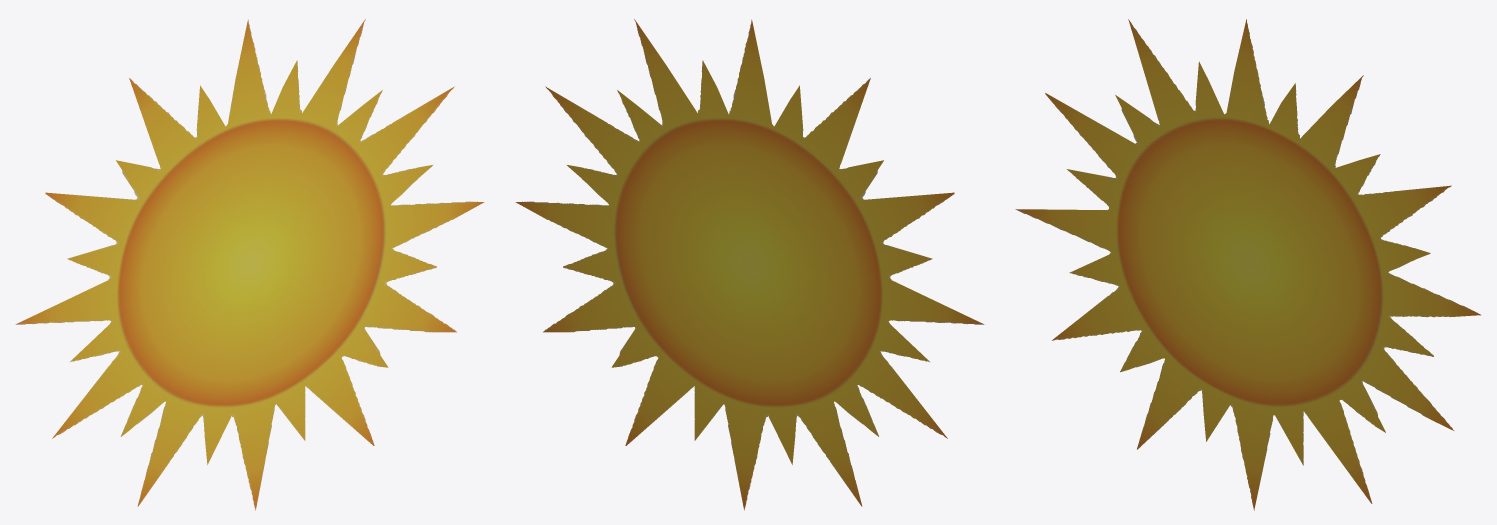
File: sun.fbx
3 views of the same model, side by side, from view 1: azimuth 30°, elevation 25°; view 2: azimuth 150°, elevation 25°; view 3: azimuth 330°, elevation 25° (orthographic).
Parts seen in each view (by area): view 1: model; view 2: model; view 3: model.
Part boxes in pixels (x1,y1,x2,y2): model: (15,19,484,510); model: (515,19,984,510); model: (1015,19,1481,510).
Size of the model in its own units: 7.93 by 8.02 by 0.001.
Materials: 1 (1 with a texture image).
